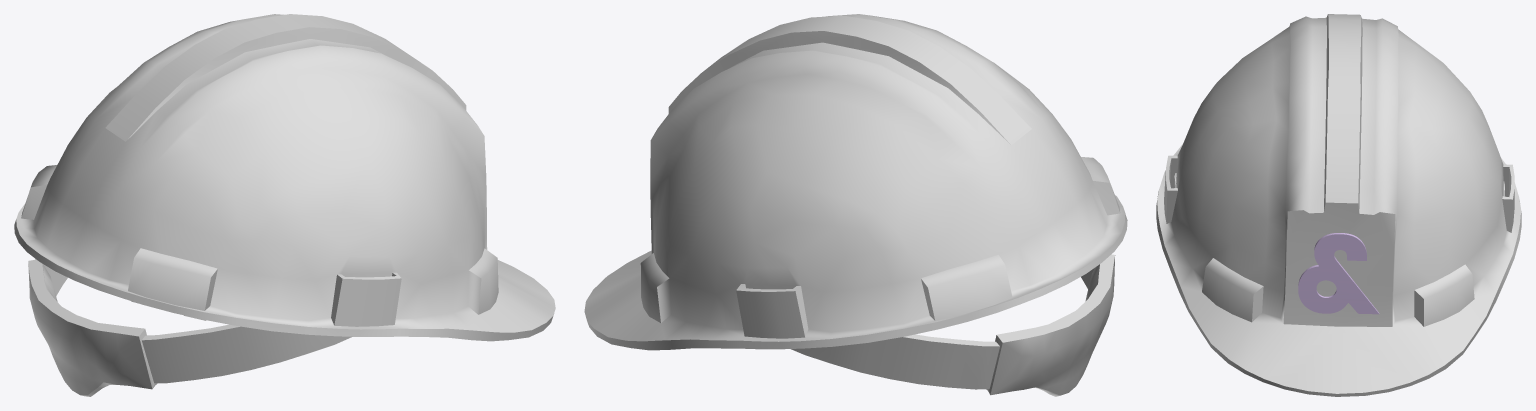
The model's file is hardhattest.fbx.
The picture shows the model from 3 angles, left to right: view 1: azimuth 30°, elevation 25°; view 2: azimuth 150°, elevation 25°; view 3: azimuth 270°, elevation 25°; orthographic projection. The views are drawn at different scales.
Visible parts, largest first — view 1: unnamed_1_hat_construction; view 2: unnamed_1_hat_construction; view 3: unnamed_1_hat_construction, unnamed_1_primary_white.
Boxes of the visible parts, left/top/right/bottom form: unnamed_1_hat_construction: left=14, top=14, right=555, bottom=396; unnamed_1_hat_construction: left=584, top=14, right=1127, bottom=396; unnamed_1_hat_construction: left=1156, top=14, right=1521, bottom=396; unnamed_1_primary_white: left=1298, top=233, right=1379, bottom=314.
Bounding box in the file's own units: 75.15 × 46.31 × 58.68.
